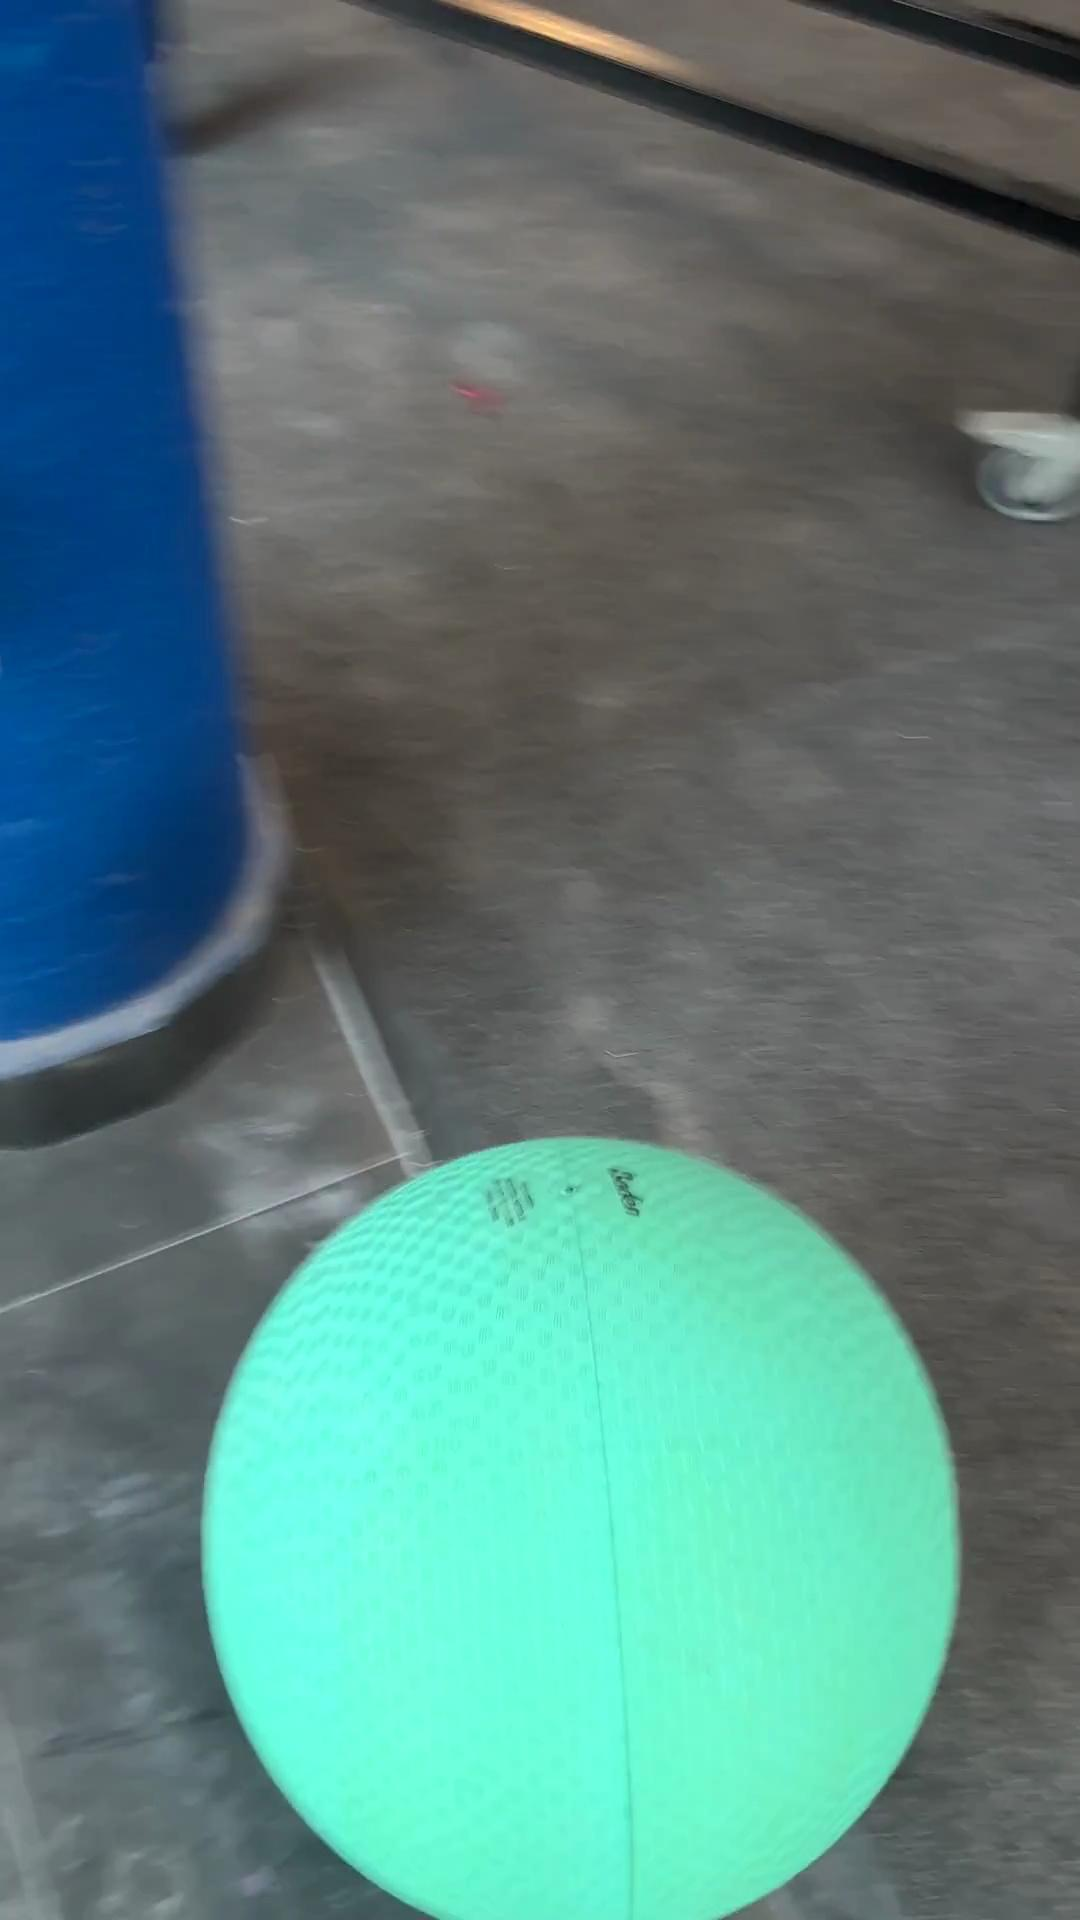ALGAE: (196, 1131, 963, 1916)
